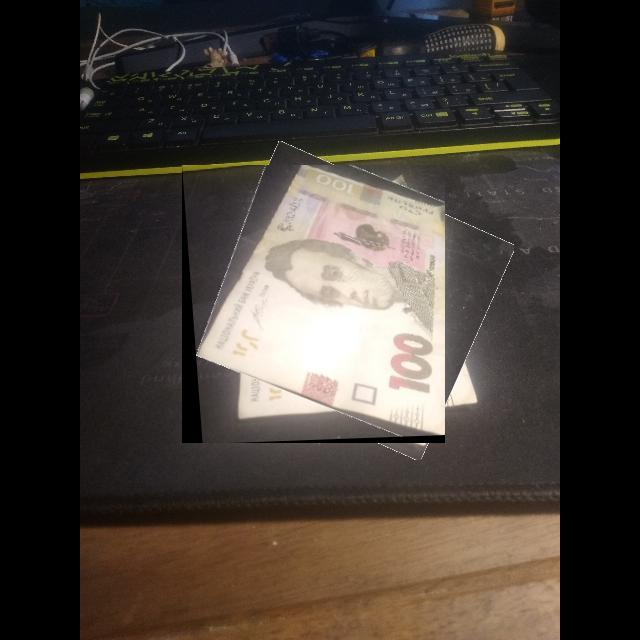100uah: (194, 165, 446, 438)
